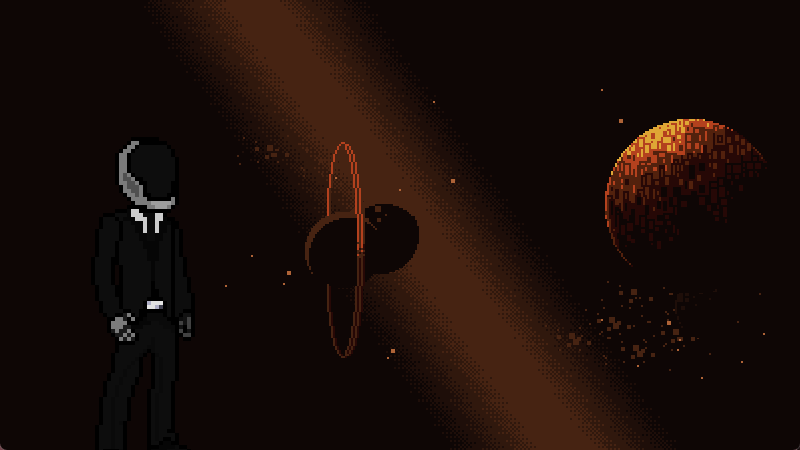next_screen: (1, 1, 800, 450)
